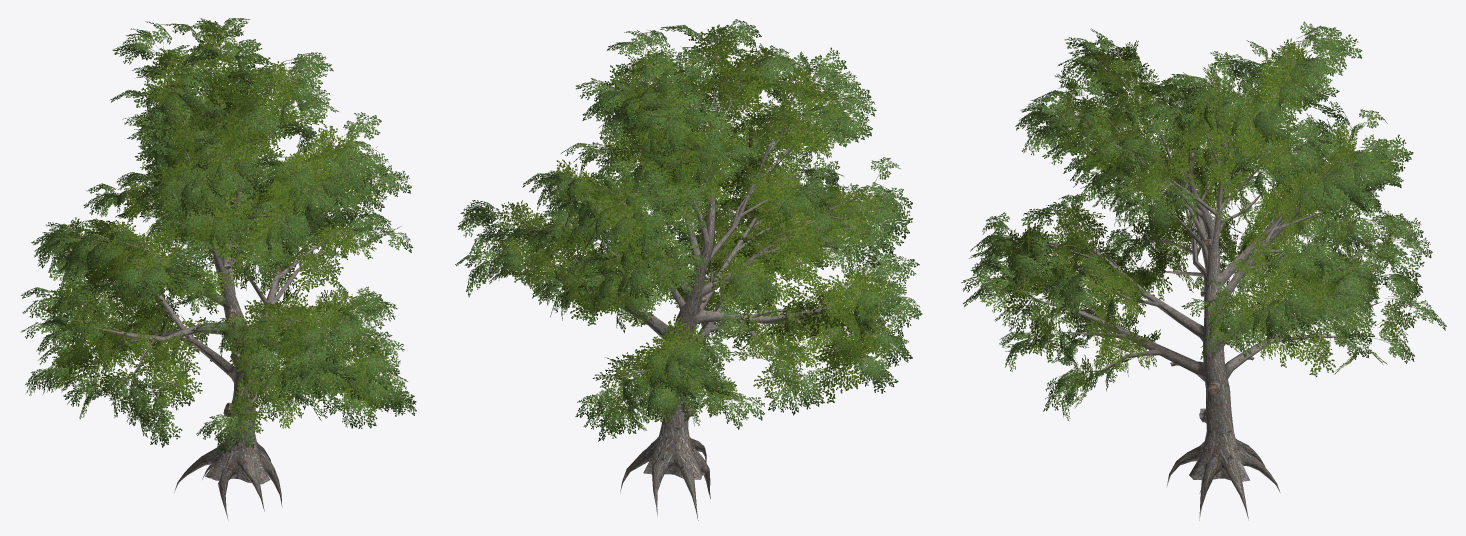
File: Tree_LOD0.glb
3 renders of one model, left to right at view 1: azimuth 30°, elevation 25°; view 2: azimuth 150°, elevation 25°; view 3: azimuth 270°, elevation 25°, orthographic. The views are drawn at different scales.
Visible parts, largest first — view 1: Tree_LOD0; view 2: Tree_LOD0; view 3: Tree_LOD0.
Boxes of the visible parts, x1,y1,x2,y2 form: Tree_LOD0: (21, 18, 416, 520); Tree_LOD0: (455, 19, 922, 520); Tree_LOD0: (961, 21, 1446, 520).
Size of the model in its own units: 19.99 by 21.14 by 20.08.
5 materials, 5 textured.
